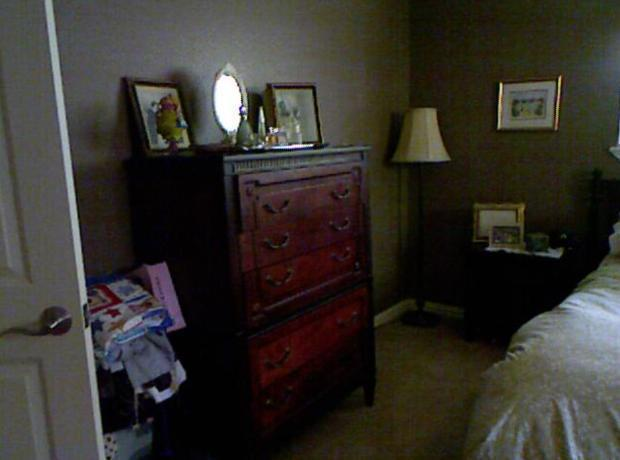Armario: (121, 153, 378, 448)
